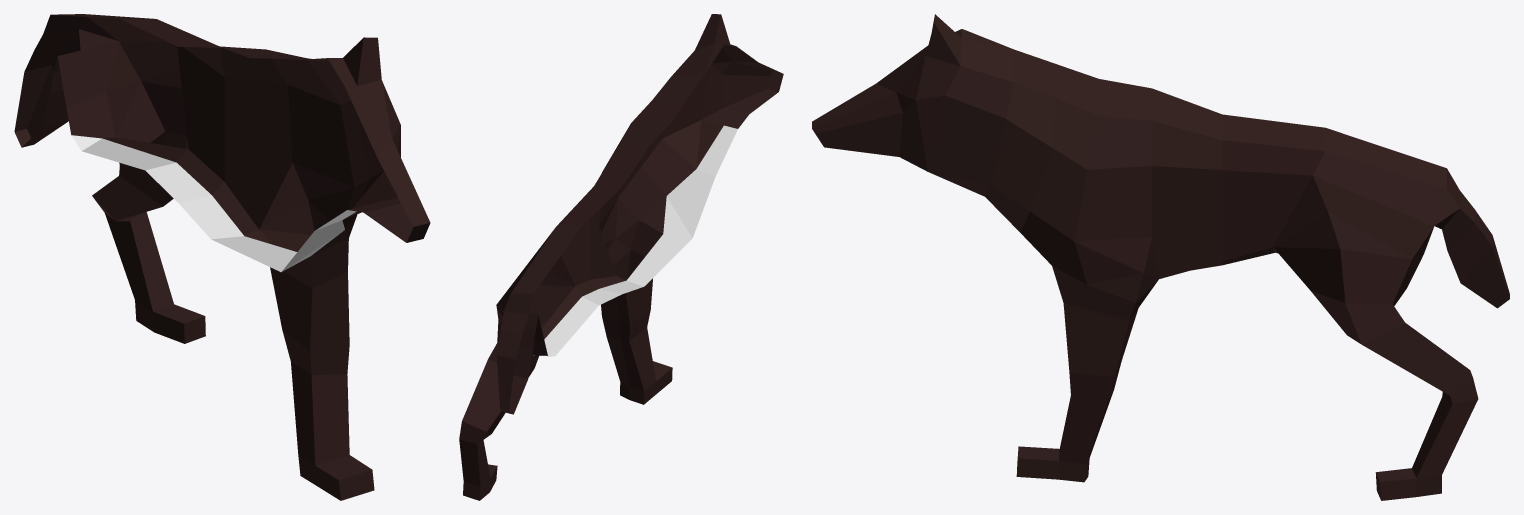
The model's file is Wolf.glb.
The picture shows the model from 3 angles, left to right: view 1: azimuth 30°, elevation 25°; view 2: azimuth 150°, elevation 25°; view 3: azimuth 270°, elevation 25°; orthographic projection. The views are drawn at different scales.
Visible parts, largest first — view 1: wolf; view 2: wolf; view 3: wolf.
Part boxes in pixels (left/top/right/bottom): wolf: left=14, top=14, right=430, bottom=500; wolf: left=459, top=14, right=783, bottom=500; wolf: left=812, top=14, right=1509, bottom=500.
Bounding box in the file's own units: 0.6487 × 2.68 × 3.8.
